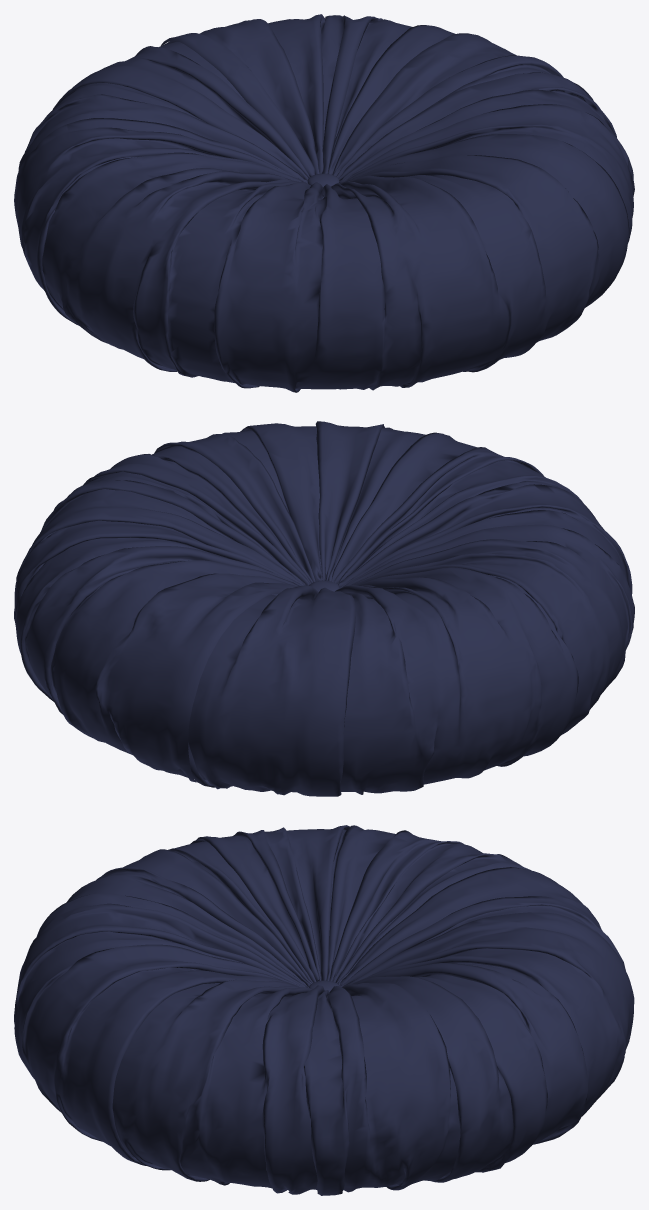
The model's file is SpecularSilkPouf.glb.
3 renders of one model, top to bottom at view 1: azimuth 30°, elevation 25°; view 2: azimuth 150°, elevation 25°; view 3: azimuth 270°, elevation 25°, orthographic.
Visible parts, largest first — view 1: SpecularSilkPouf; view 2: SpecularSilkPouf; view 3: SpecularSilkPouf.
Boxes of the visible parts, box(x1,y1,x2,y2) form: SpecularSilkPouf: box(14, 14, 634, 392); SpecularSilkPouf: box(14, 421, 634, 796); SpecularSilkPouf: box(14, 825, 634, 1195).
Bounding box in the file's own units: 0.6099 × 0.1978 × 0.61.
